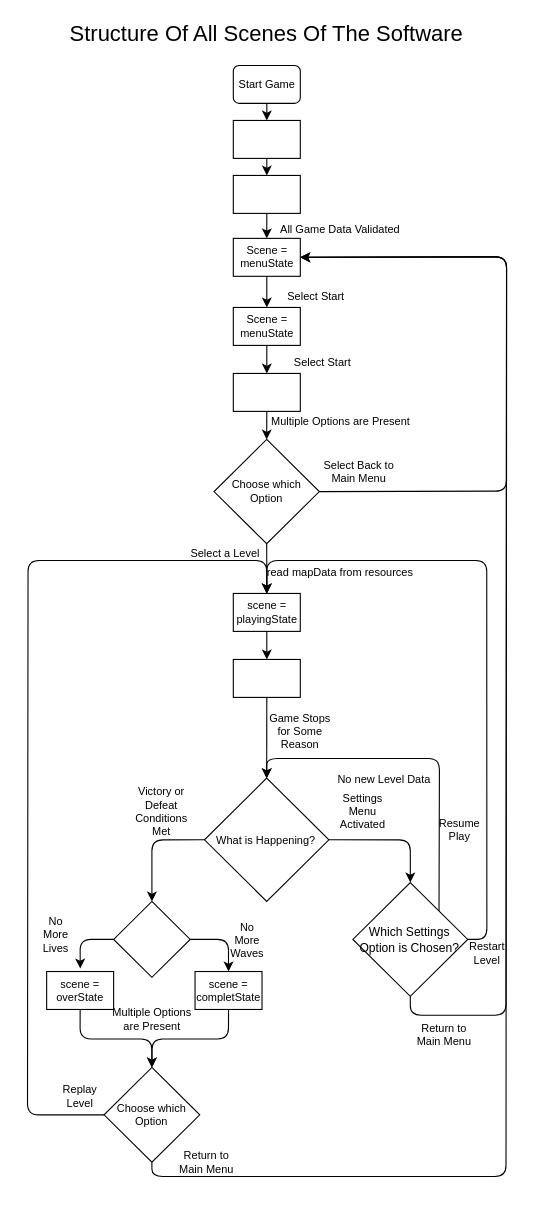
This 535x1205 diagram has some shape labels left out. The shapes that lost their labels are listed below. From the top down, each one's centre as x and y in pixels, then its label:
the point at 266,138: Scene = bootstrapState
the point at 266,193: Launch all Constant Scenes
the point at 266,391: Scene = levelState
the point at 266,677: launch map, gameStats and hud
the point at 151,938: Game Complete
